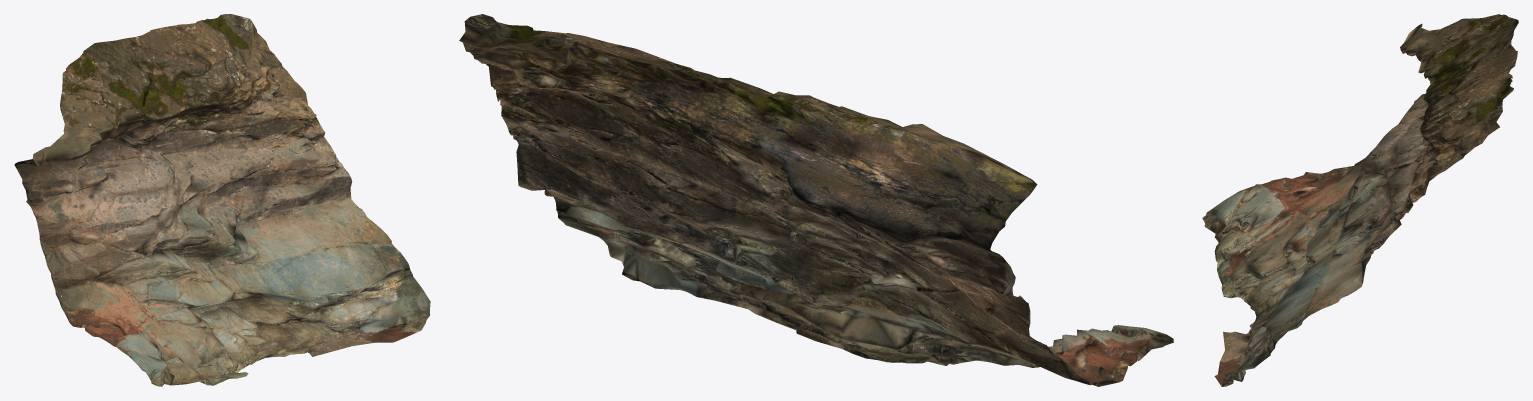
The model's file is ph_rockface.glb.
3 renders of one model, left to right at view 1: azimuth 30°, elevation 25°; view 2: azimuth 150°, elevation 25°; view 3: azimuth 270°, elevation 25°, orthographic. The views are drawn at different scales.
Visible parts, largest first — view 1: rock_face_01; view 2: rock_face_01; view 3: rock_face_01.
Boxes of the visible parts, bbox=[...] form: rock_face_01: bbox=[14, 14, 430, 386]; rock_face_01: bbox=[459, 14, 1173, 386]; rock_face_01: bbox=[1202, 14, 1518, 386].
Size of the model in its own units: 4.94 by 3.56 by 3.82.
1 material, 1 textured.
